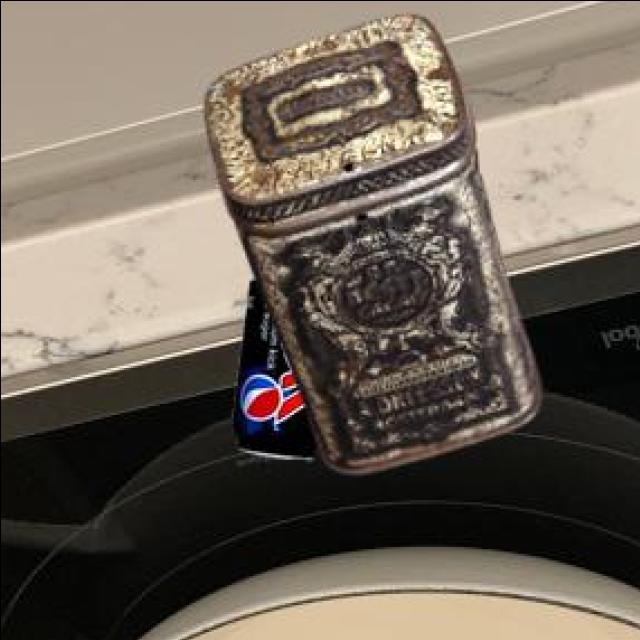logam: (207, 19, 545, 476), (236, 281, 321, 462)
